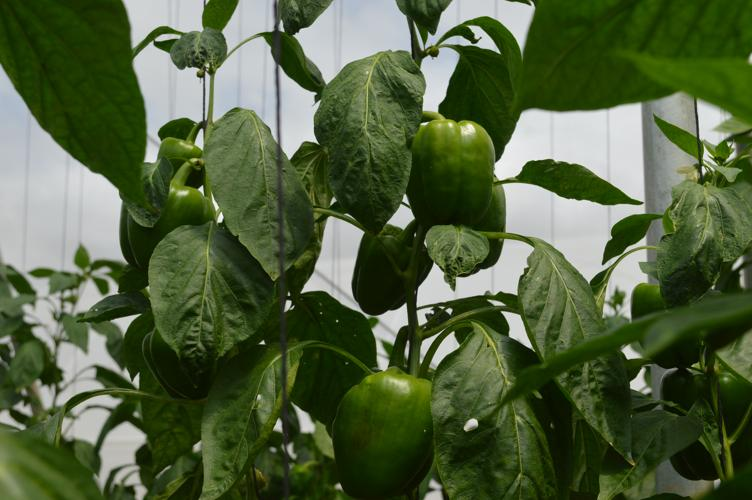BellPepper: (329, 369, 438, 491), (652, 368, 752, 484), (402, 117, 493, 224), (115, 184, 213, 266), (442, 179, 509, 270), (351, 226, 419, 314), (629, 285, 701, 363), (141, 331, 211, 397)
